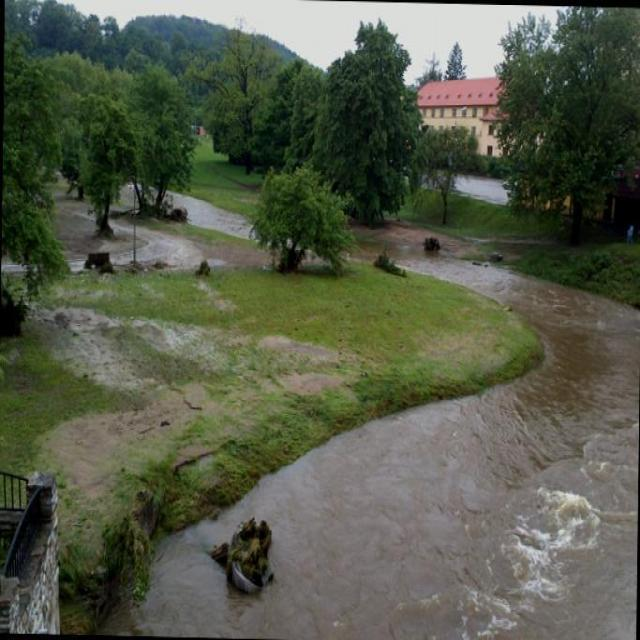flood: (131, 335, 639, 639)
